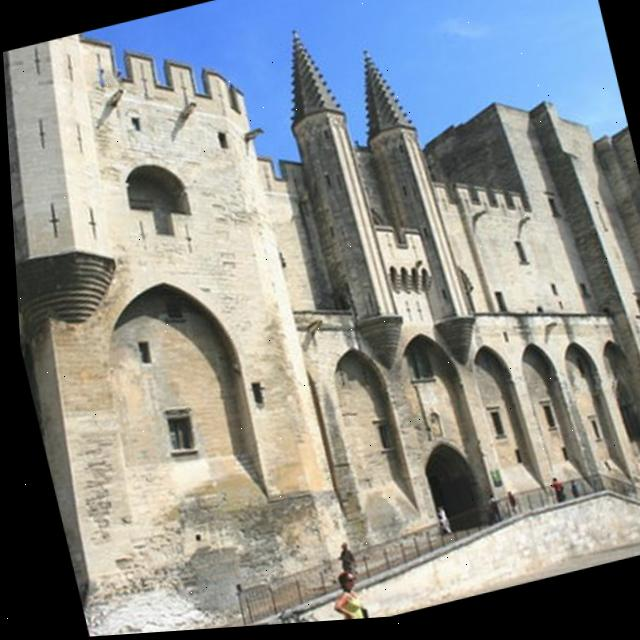building: (230, 0, 640, 609), (1, 0, 359, 631)
